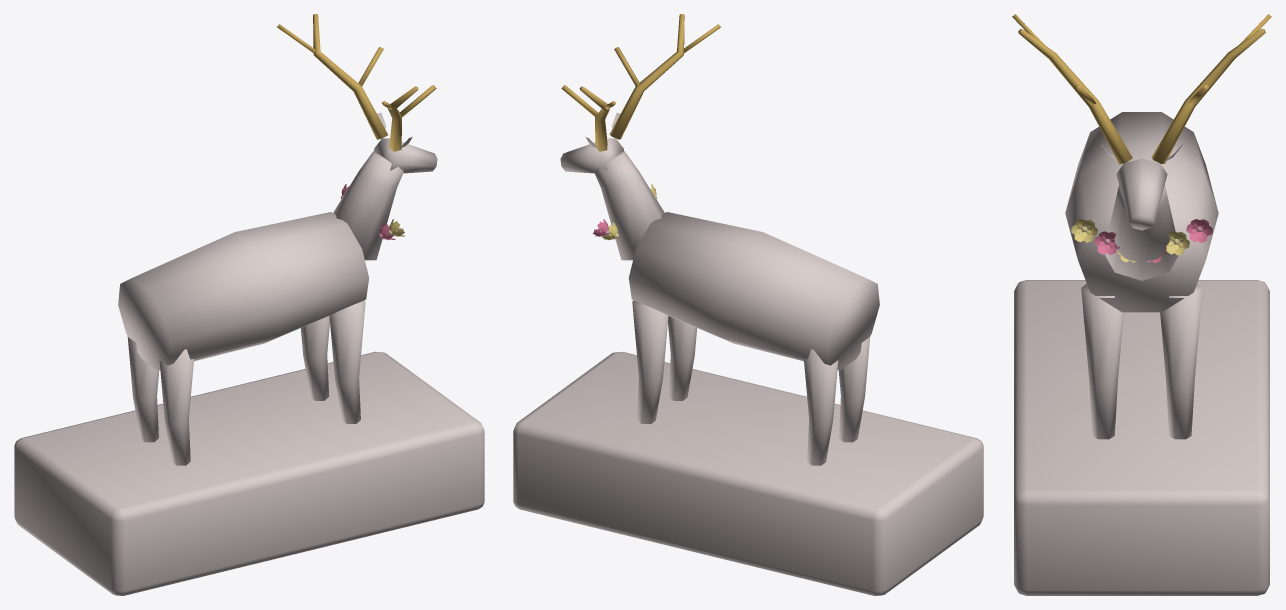
File: statue_stag.glb
3 renders of one model, left to right at view 1: azimuth 30°, elevation 25°; view 2: azimuth 150°, elevation 25°; view 3: azimuth 270°, elevation 25°, orthographic. The views are drawn at different scales.
Visible parts, largest first — view 1: statue_stag; view 2: statue_stag; view 3: statue_stag.
Boxes of the visible parts, x1,y1,x2,y2 form: statue_stag: (14,14,484,595); statue_stag: (513,14,983,595); statue_stag: (1012,14,1271,595).
Size of what is drawn, in the model's own units: 1.6 by 1.8 by 0.8.
